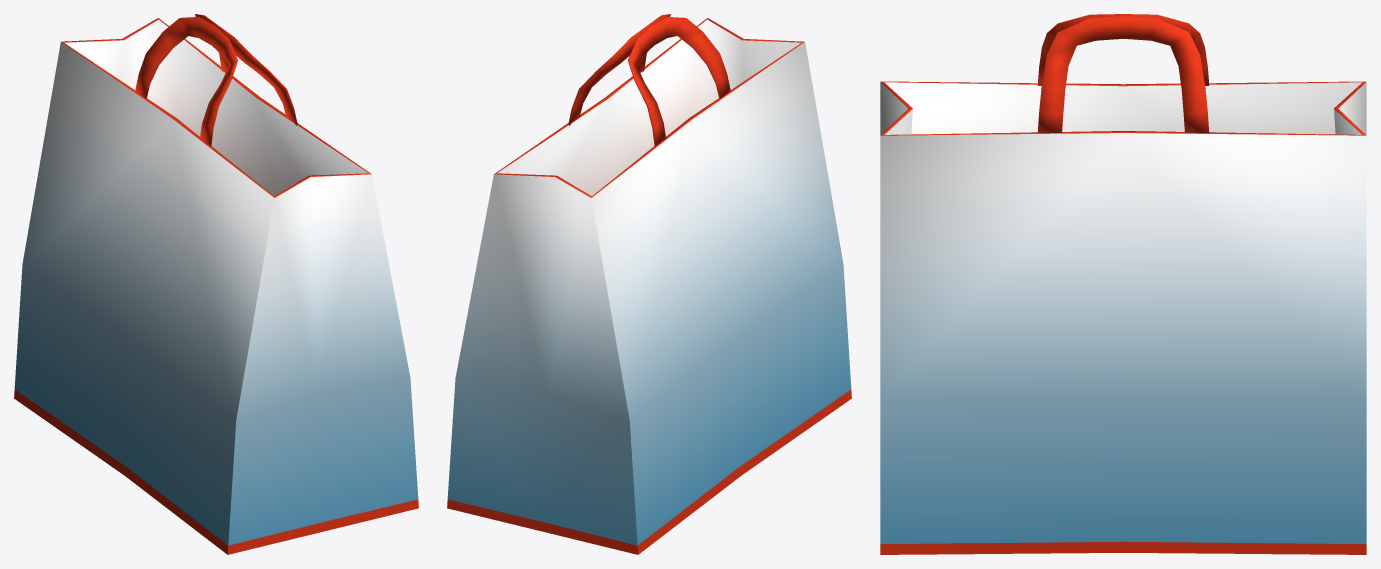
File: shopping_bag_AI.glb
The picture shows the model from 3 angles, left to right: view 1: azimuth 30°, elevation 25°; view 2: azimuth 150°, elevation 25°; view 3: azimuth 270°, elevation 25°; orthographic projection. The views are drawn at different scales.
Parts seen in each view (by area): view 1: shopping_bag_AI; view 2: shopping_bag_AI; view 3: shopping_bag_AI.
Boxes of the visible parts, bbox=[...] form: shopping_bag_AI: bbox=[14, 14, 418, 554]; shopping_bag_AI: bbox=[447, 14, 851, 554]; shopping_bag_AI: bbox=[880, 14, 1366, 554].
Size of the model in its own units: 0.2417 by 0.5166 by 0.4679.
1 material, 1 textured.
